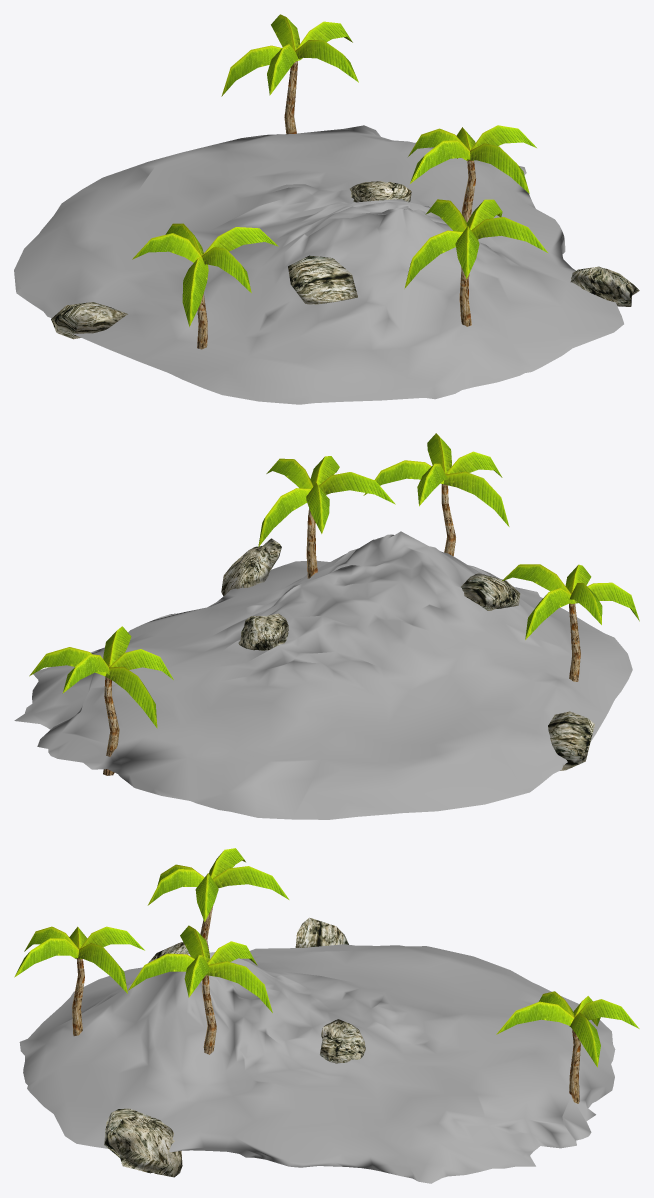
The model's file is desert_island_03.fbx.
The picture shows the model from 3 angles, top to bottom: view 1: azimuth 30°, elevation 25°; view 2: azimuth 150°, elevation 25°; view 3: azimuth 270°, elevation 25°; orthographic projection. The views are drawn at different scales.
Parts seen in each view (by area): view 1: desert_island_03; view 2: desert_island_03; view 3: desert_island_03.
Boxes of the visible parts, x1,y1,x2,y2 form: desert_island_03: [14, 14, 639, 404]; desert_island_03: [14, 433, 639, 819]; desert_island_03: [14, 848, 639, 1183].
Size of the model in its own units: 0.293 by 0.1051 by 0.3199.
2 materials, 1 textured.
